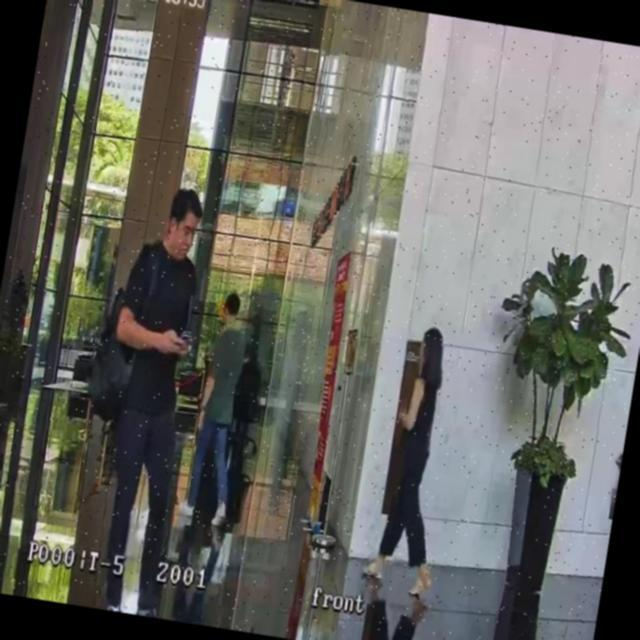person: (72, 181, 224, 618), (360, 322, 470, 601), (178, 288, 264, 534)
